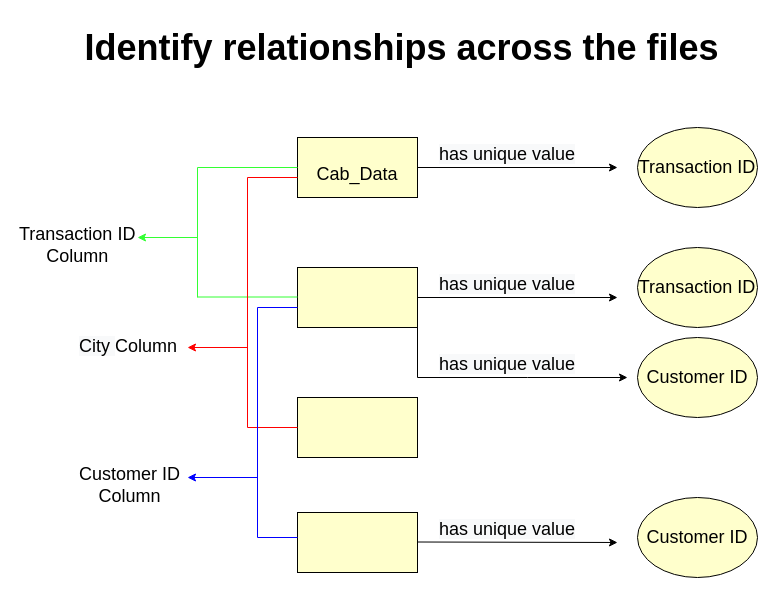
Some shapes in this 775 by 595 pixel diagram are drawn without their labels. Here are the shapes that lost their labels. From the top down, the box of each, then its label:
(296, 266, 418, 328): Transaction_ID
(296, 396, 418, 458): City
(296, 512, 418, 572): Customer_ID
